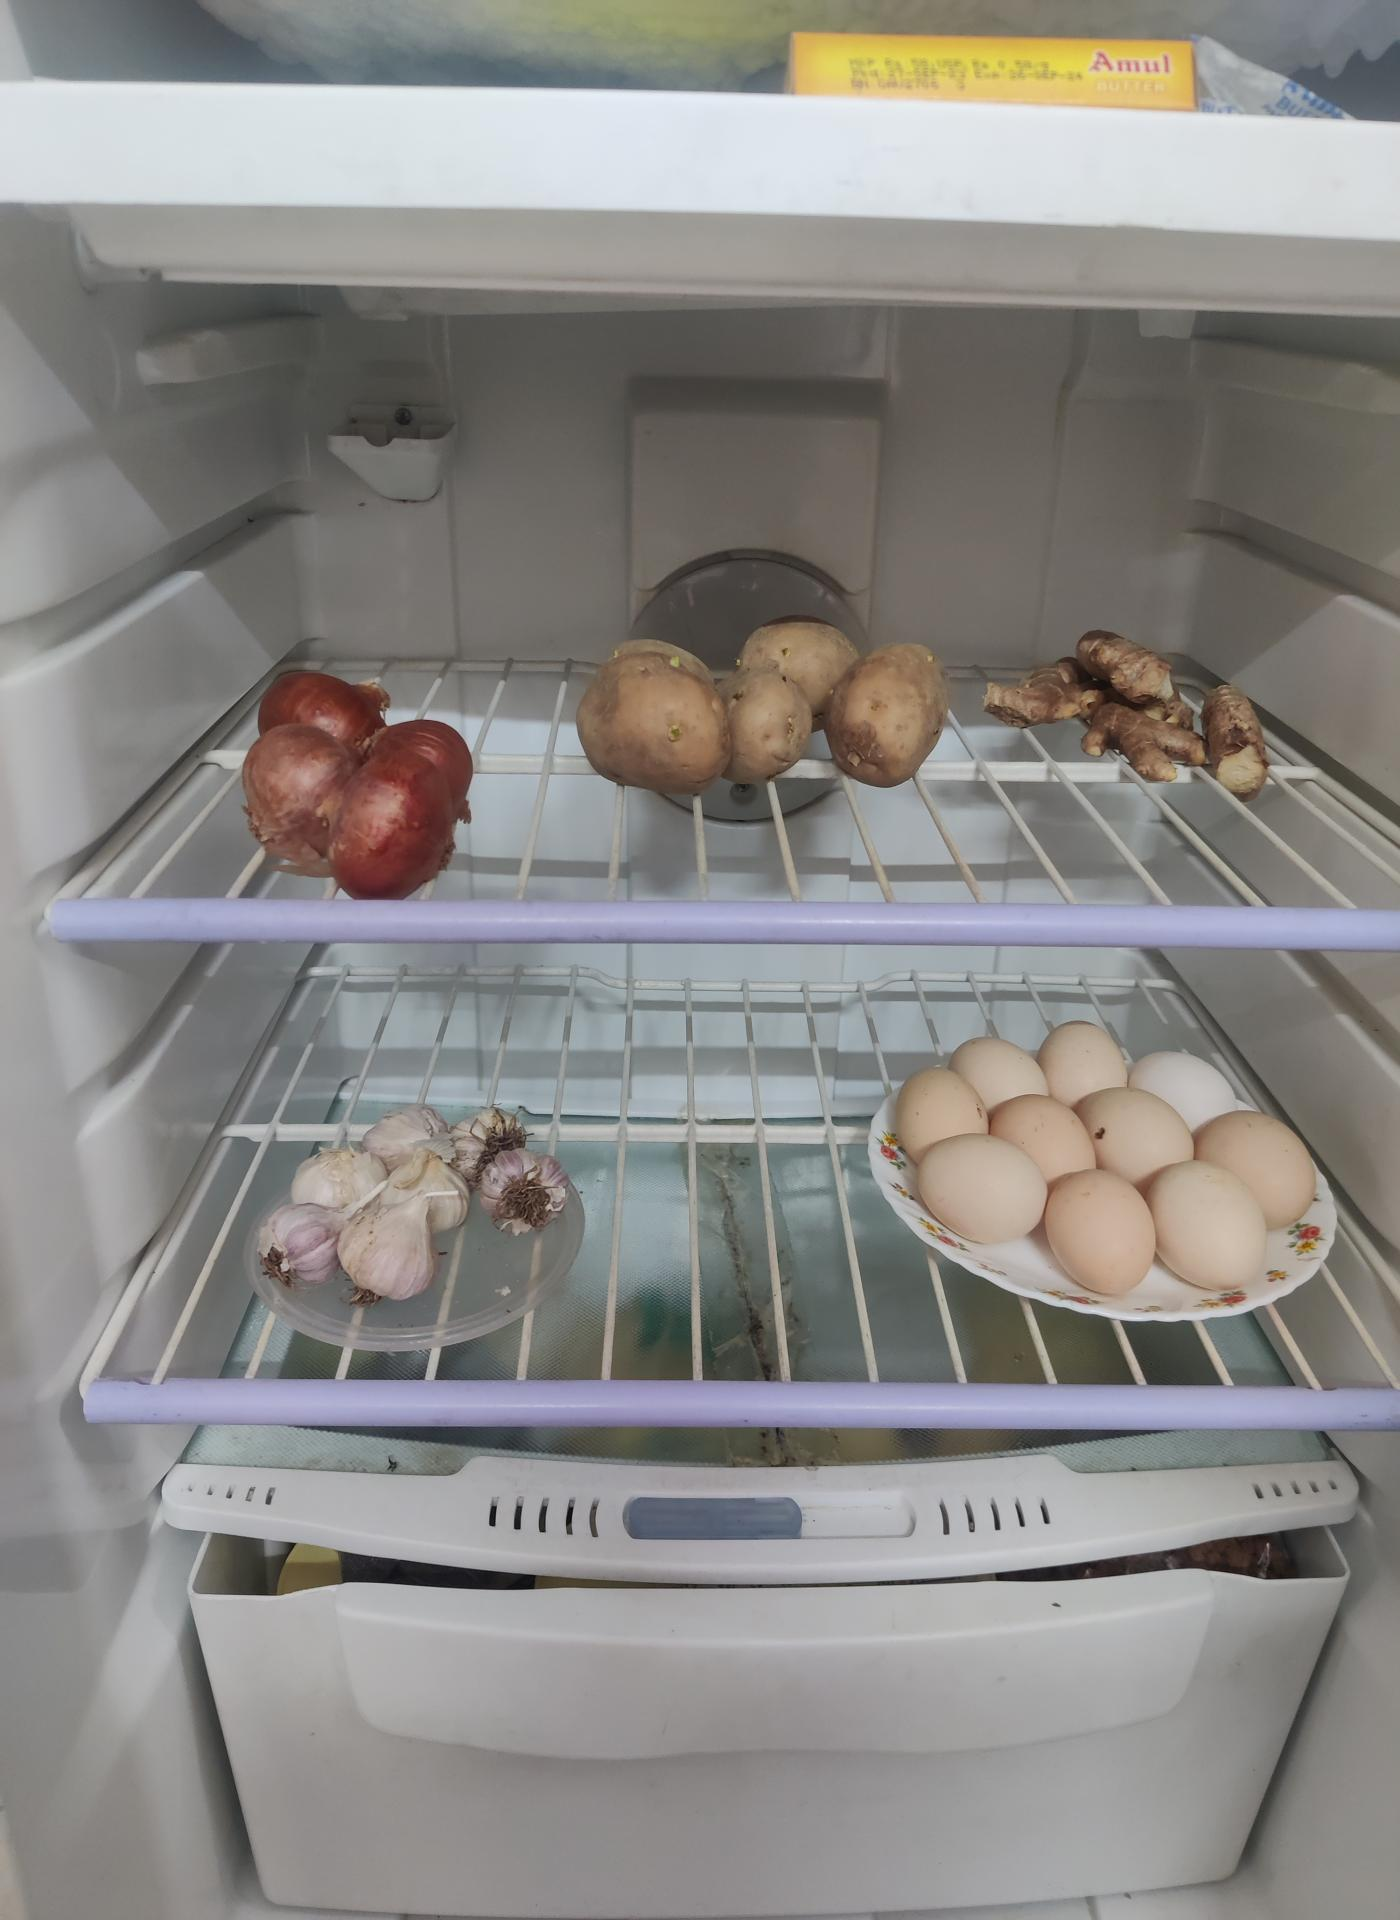egg: (874, 1029, 1322, 1313)
garlic: (270, 1108, 556, 1303)
ginger: (987, 634, 1279, 786)
onion: (243, 674, 477, 900)
potato: (578, 613, 953, 792)
